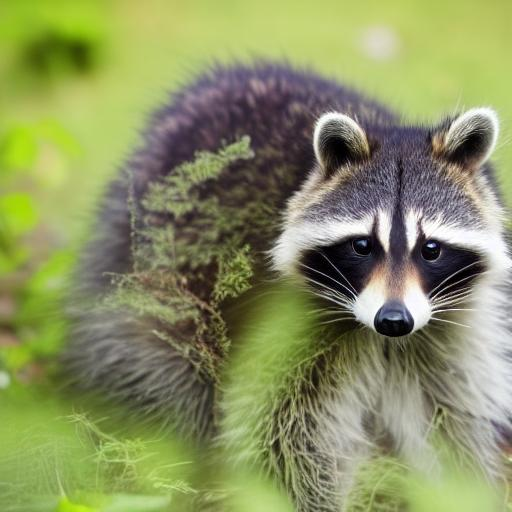raccoon: (36, 45, 512, 512)
